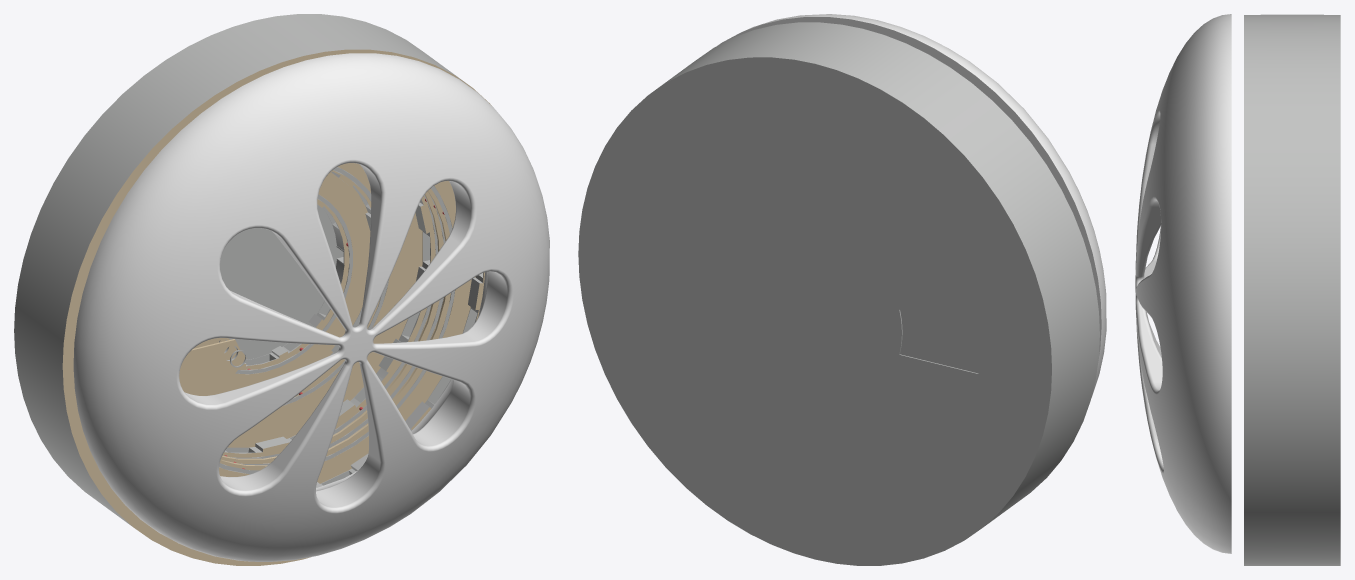
The model's file is space_station_interior v5.fbx.
3 renders of one model, left to right at view 1: azimuth 30°, elevation 25°; view 2: azimuth 150°, elevation 25°; view 3: azimuth 270°, elevation 25°, orthographic.
Parts seen in each view (by area): view 1: Body9, Body1; view 2: Body1, Body9; view 3: Body1, Body9.
Part boxes in pixels (x1=…): Body9: x1=73, y1=53, x2=549, y2=561; Body1: x1=14, y1=14, x2=491, y2=565; Body1: x1=578, y1=22, x2=1099, y2=565; Body9: x1=717, y1=14, x2=1106, y2=397; Body1: x1=1244, y1=14, x2=1340, y2=565; Body9: x1=1135, y1=14, x2=1231, y2=553.
Bounding box in the file's own units: 440 × 441 × 164.
